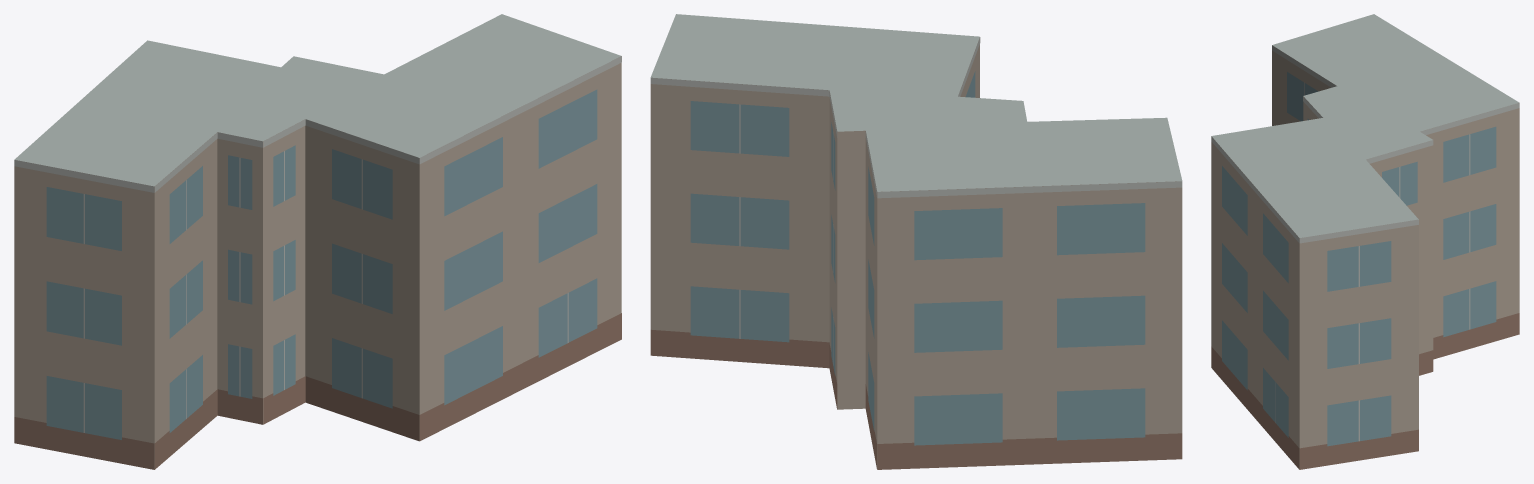
The model's file is survey-upis-32895781.glb.
3 renders of one model, left to right at view 1: azimuth 30°, elevation 25°; view 2: azimuth 150°, elevation 25°; view 3: azimuth 270°, elevation 25°, orthographic. The views are drawn at different scales.
Parts seen in each view (by area): view 1: survey-upis-32895781.tmp; view 2: survey-upis-32895781.tmp; view 3: survey-upis-32895781.tmp.
Part boxes in pixels (x1=…): survey-upis-32895781.tmp: x1=14, y1=14, x2=621, y2=469; survey-upis-32895781.tmp: x1=650, y1=14, x2=1182, y2=469; survey-upis-32895781.tmp: x1=1211, y1=14, x2=1519, y2=469.
Bounding box in the file's own units: 22 × 10.6 × 12.79.
